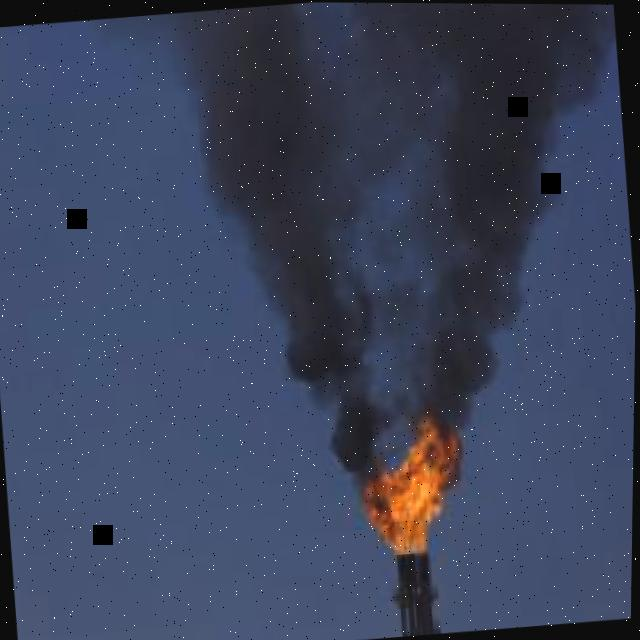fire: (362, 410, 464, 556)
smoke: (89, 2, 617, 484)
